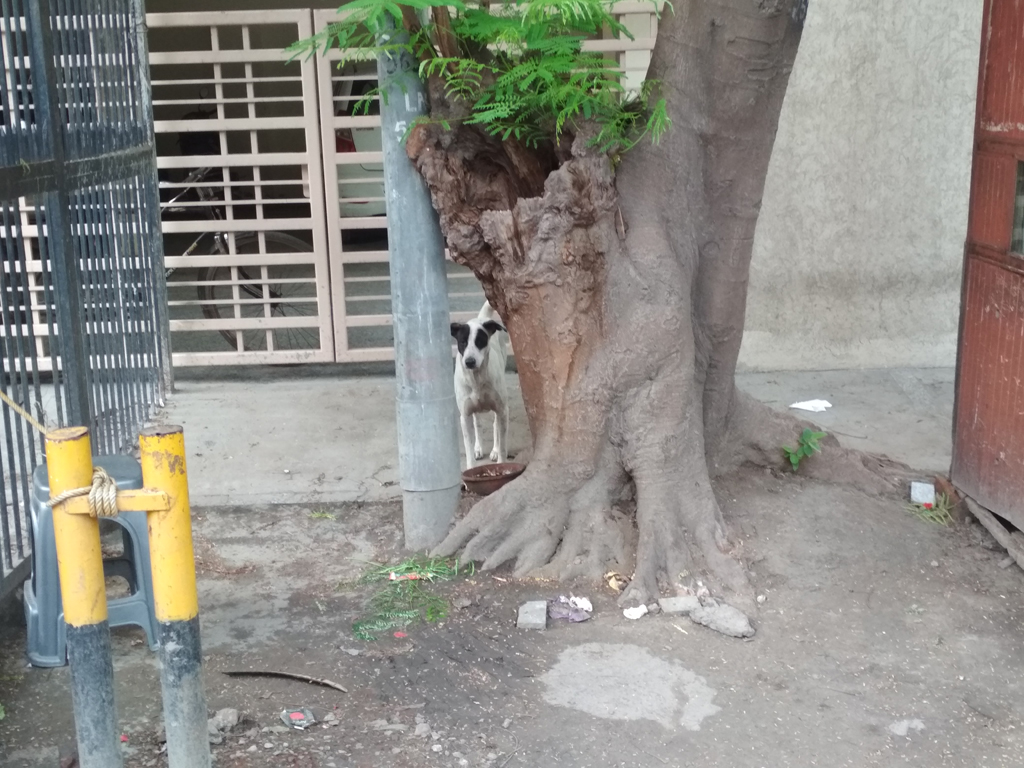dog: (452, 299, 508, 471)
